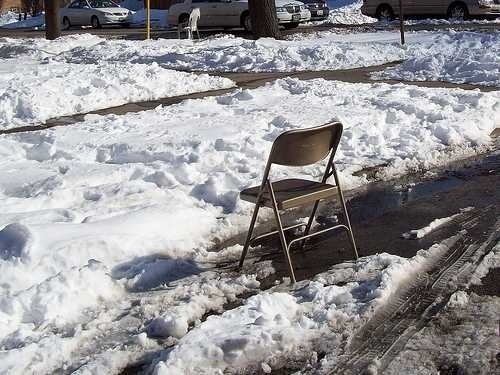obstacle: (238, 122, 358, 282)
